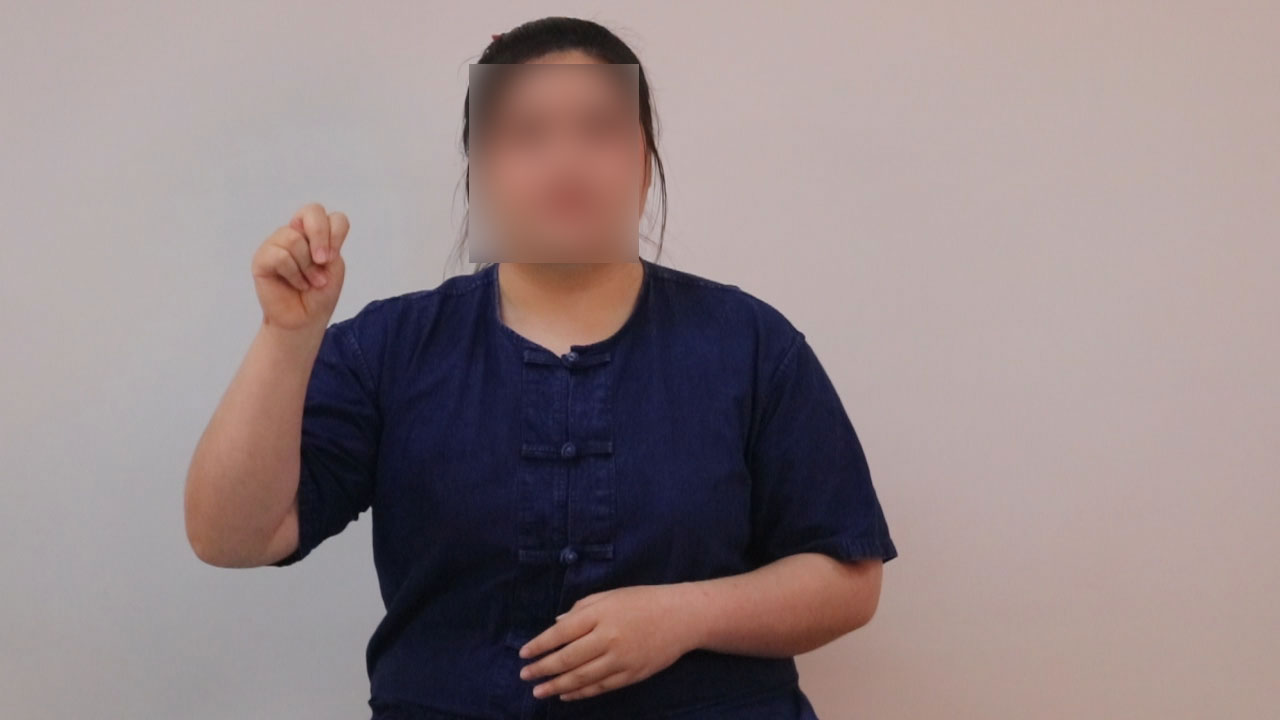nor: (234, 197, 364, 348)
